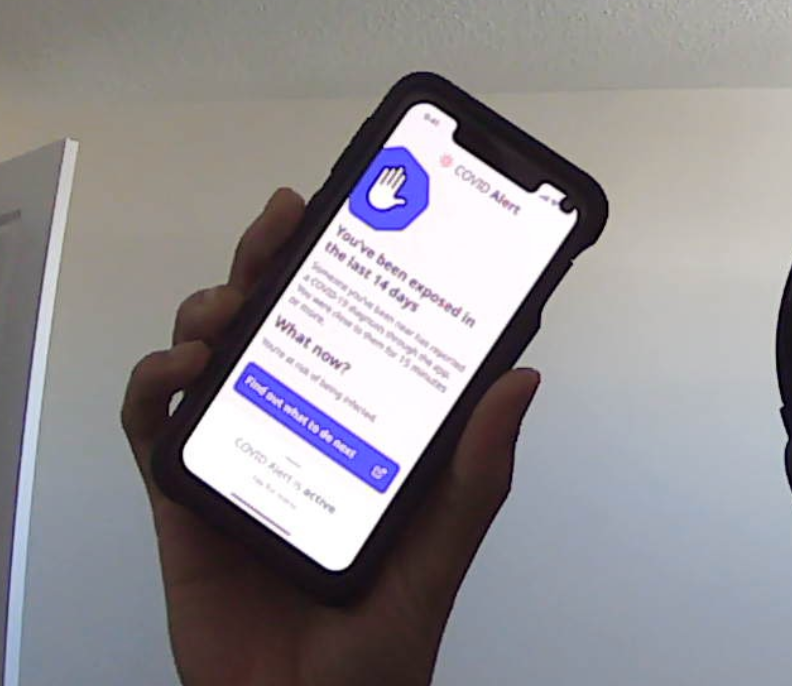Exposed: (313, 125, 515, 336)
